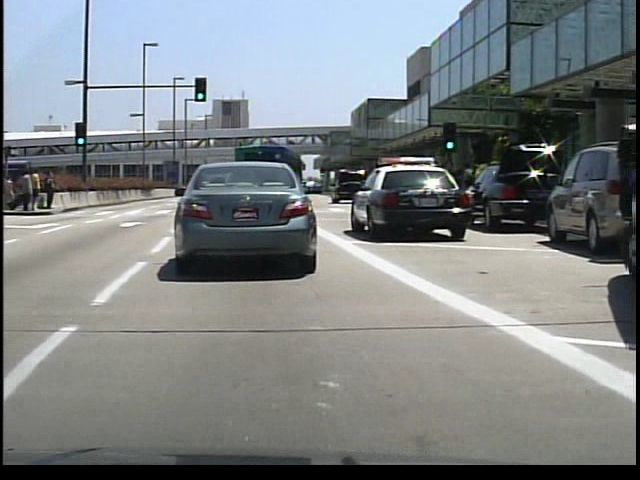person: (17, 169, 33, 214), (41, 168, 55, 211), (29, 165, 41, 213)
